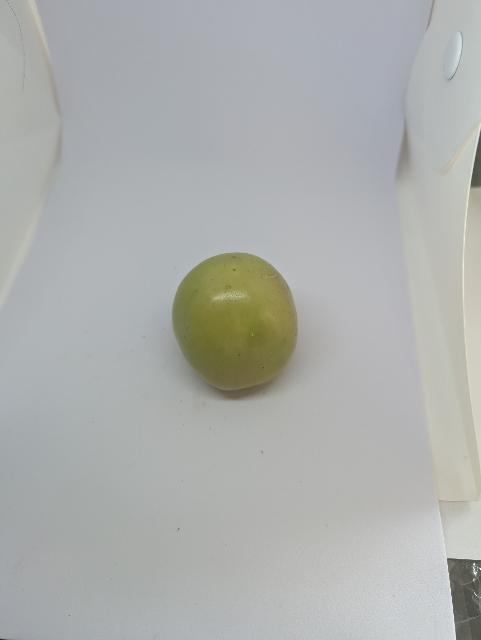green: (158, 232, 311, 413)
